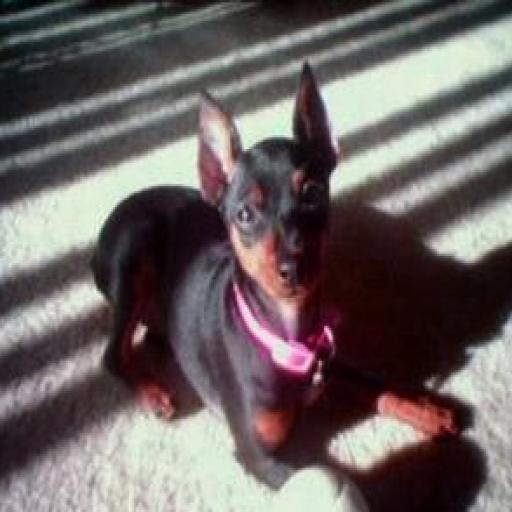dog_face: (196, 63, 337, 309)
